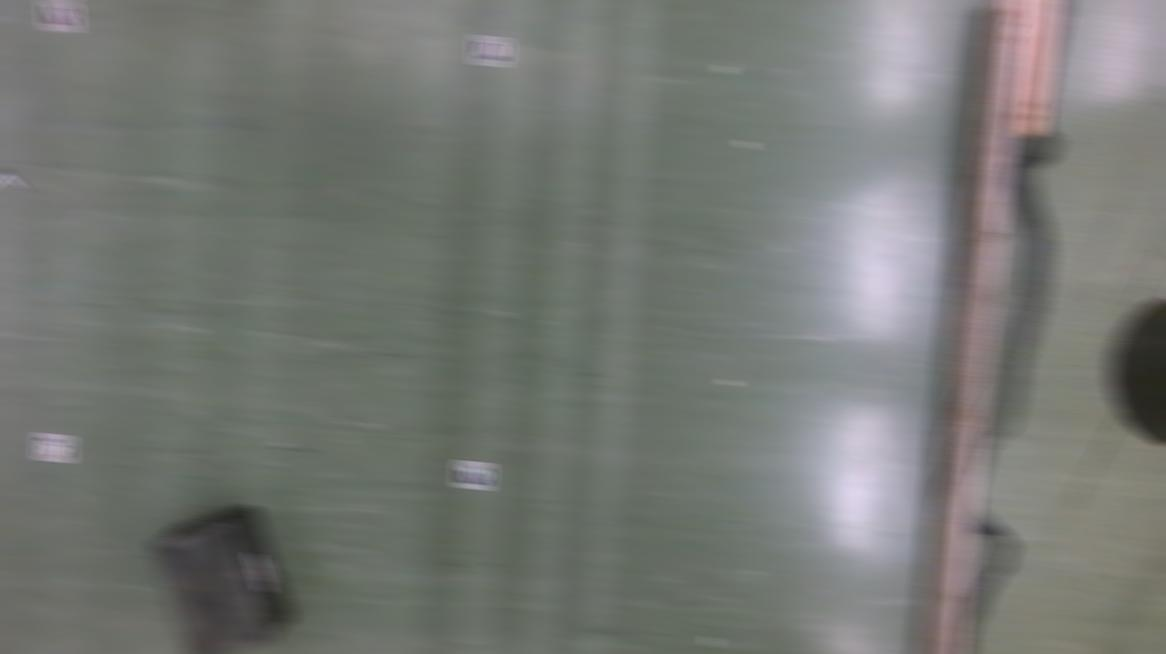probes: (0, 157, 23, 192)
rako: (148, 503, 297, 654)
